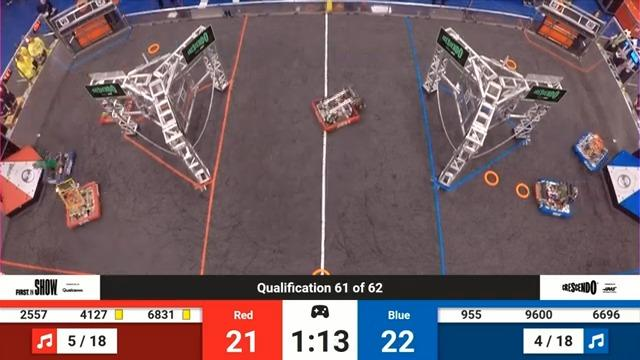robot: (301, 71, 373, 139), (57, 177, 108, 233), (566, 127, 616, 180), (533, 173, 582, 224), (32, 148, 78, 188), (94, 92, 142, 125)
